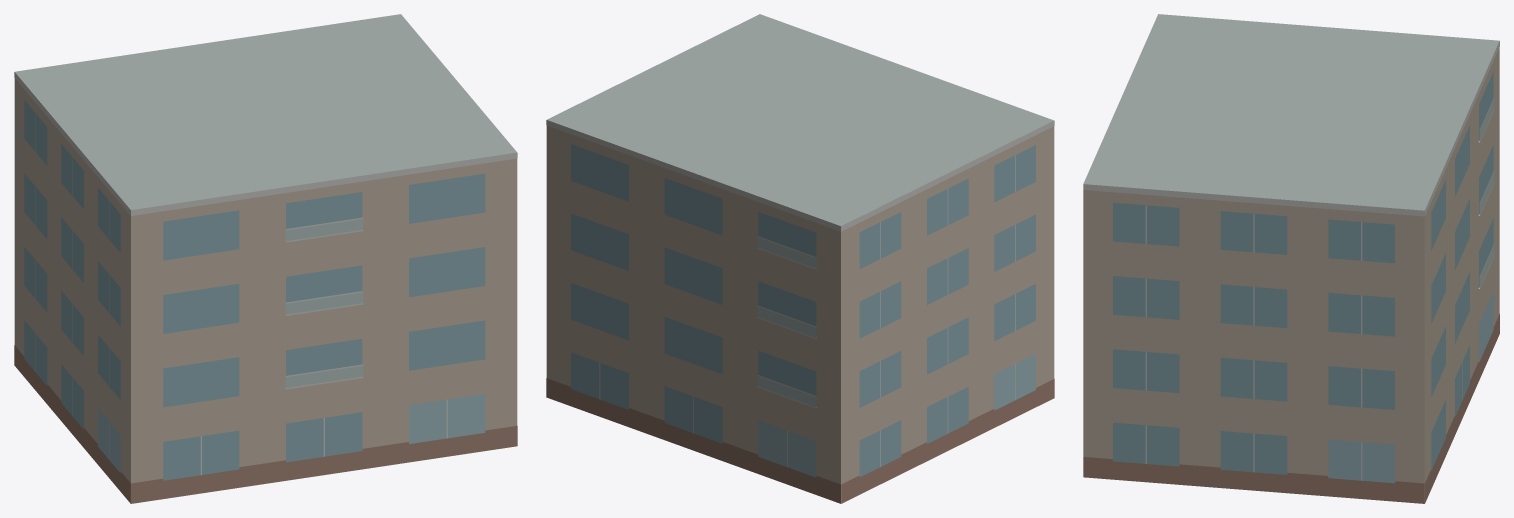
Rendered from survey-upis-32777632.glb.
The picture shows the model from 3 angles, left to right: view 1: azimuth 30°, elevation 25°; view 2: azimuth 150°, elevation 25°; view 3: azimuth 270°, elevation 25°; orthographic projection. The views are drawn at different scales.
Parts seen in each view (by area): view 1: survey-upis-32777632.tmp; view 2: survey-upis-32777632.tmp; view 3: survey-upis-32777632.tmp.
Part boxes in pixels (x1=…): survey-upis-32777632.tmp: x1=14, y1=14, x2=517, y2=503; survey-upis-32777632.tmp: x1=546, y1=14, x2=1054, y2=503; survey-upis-32777632.tmp: x1=1083, y1=14, x2=1499, y2=503.
Size of the model in its own units: 17.56 by 12.2 by 15.72.
